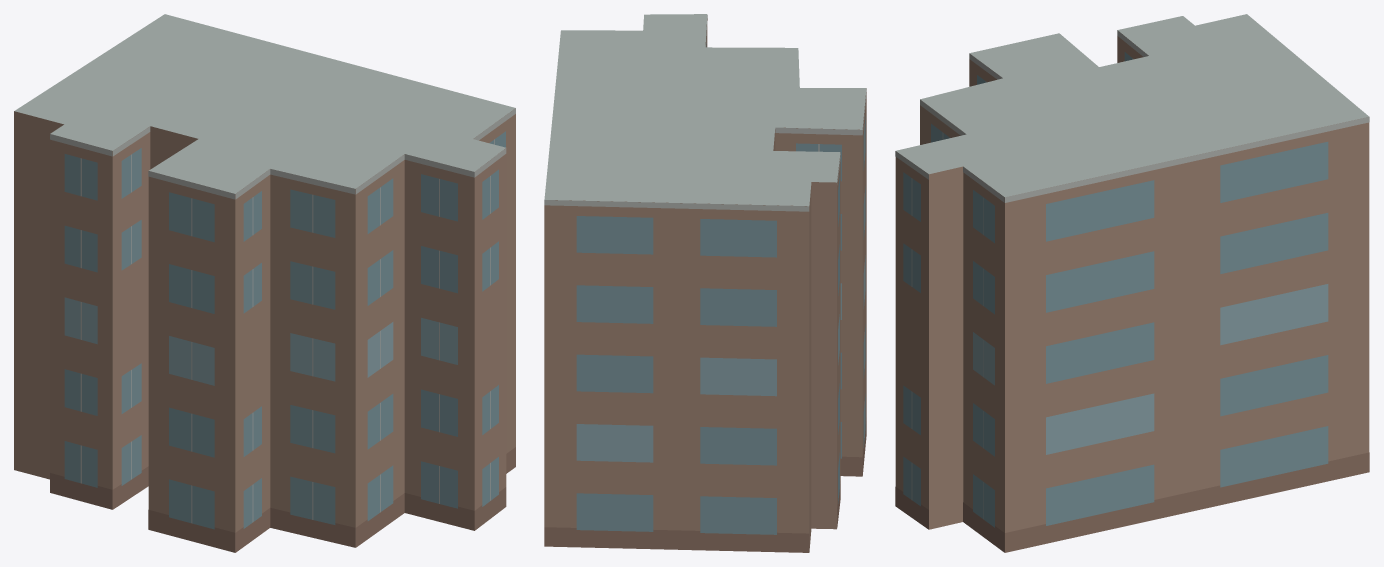
Rendered from survey-upis-33006868.glb.
3 renders of one model, left to right at view 1: azimuth 30°, elevation 25°; view 2: azimuth 150°, elevation 25°; view 3: azimuth 270°, elevation 25°, orthographic. The views are drawn at different scales.
Visible parts, largest first — view 1: survey-upis-33006868.tmp; view 2: survey-upis-33006868.tmp; view 3: survey-upis-33006868.tmp.
Boxes of the visible parts, bbox=[...] form: survey-upis-33006868.tmp: bbox=[14, 14, 515, 552]; survey-upis-33006868.tmp: bbox=[544, 14, 866, 552]; survey-upis-33006868.tmp: bbox=[895, 14, 1369, 552].
Size of the model in its own units: 16.88 by 15.25 by 18.43.
